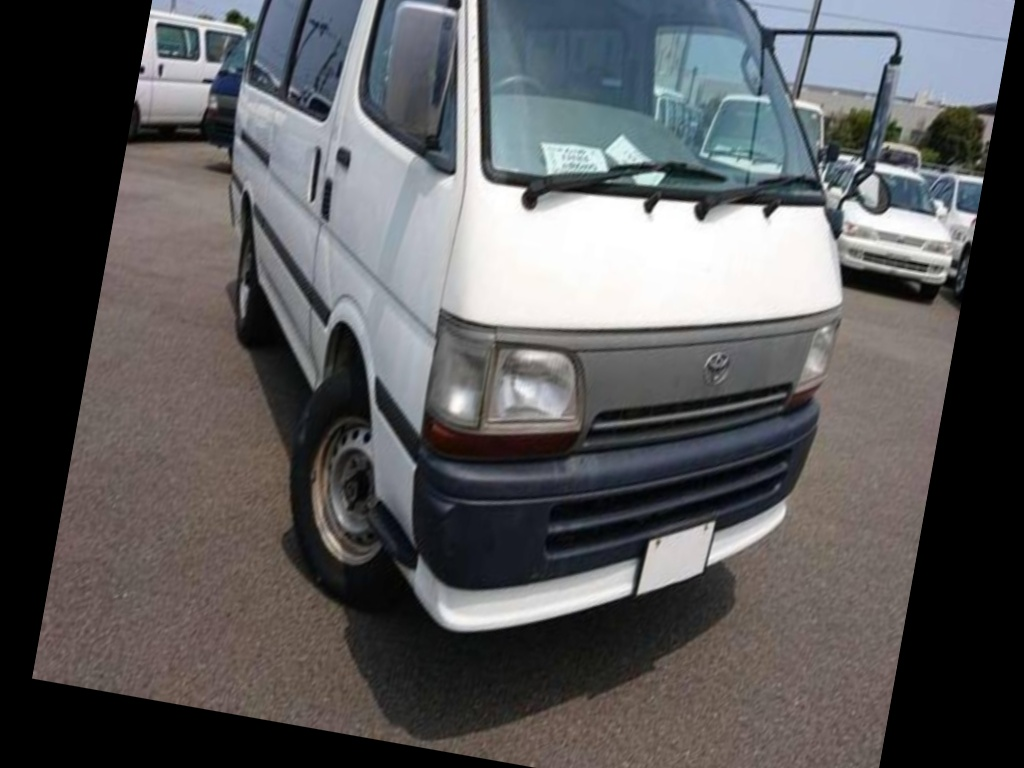van: (158, 0, 905, 671)
